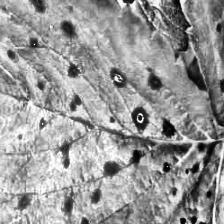Leaf Spot: (0, 0, 224, 224), (174, 0, 224, 165), (122, 147, 224, 224), (75, 0, 190, 52)
